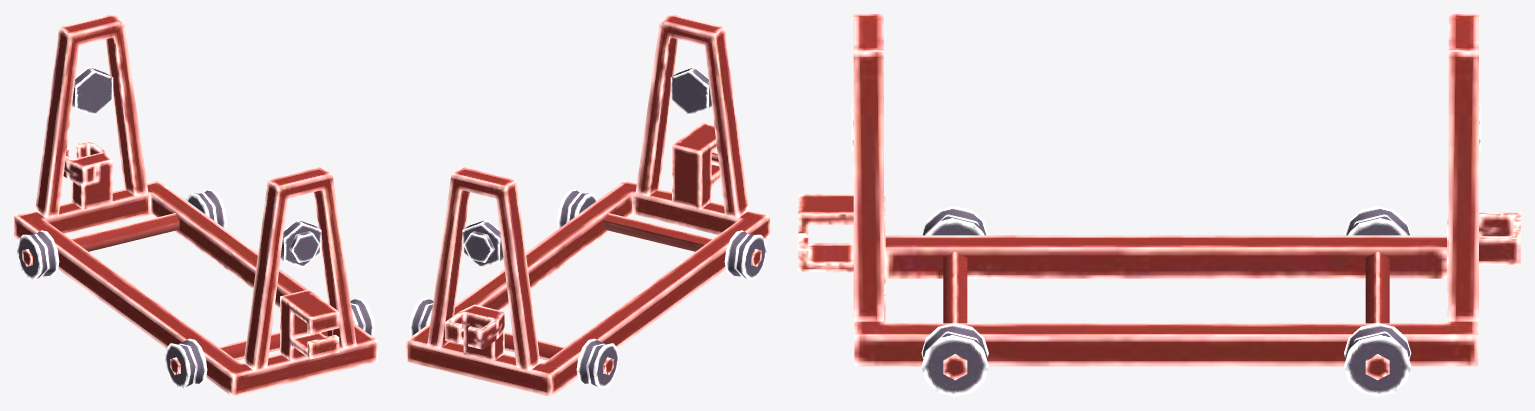
The model's file is cart_chassis.glb.
The picture shows the model from 3 angles, left to right: view 1: azimuth 30°, elevation 25°; view 2: azimuth 150°, elevation 25°; view 3: azimuth 270°, elevation 25°; orthographic projection. The views are drawn at different scales.
Visible parts, largest first — view 1: CartFrame.001, CartWheels_1.001, CartWheel_2.001; view 2: CartFrame.001, CartWheel_2.001, CartWheels_1.001; view 3: CartFrame.001, CartWheel_2.001, CartWheels_1.001.
Part boxes in pixels (x1,y1,x2,y2): CartFrame.001: [14, 14, 377, 396]; CartWheels_1.001: [17, 189, 226, 280]; CartWheel_2.001: [165, 297, 374, 388]; CartFrame.001: [406, 14, 769, 396]; CartWheel_2.001: [557, 189, 766, 280]; CartWheels_1.001: [409, 297, 618, 388]; CartFrame.001: [798, 14, 1520, 366]; CartWheel_2.001: [921, 206, 988, 396]; CartWheels_1.001: [1344, 206, 1411, 396].
Size of the model in its own units: 0.7552 by 0.7937 by 1.74.
1 material, 1 textured.
